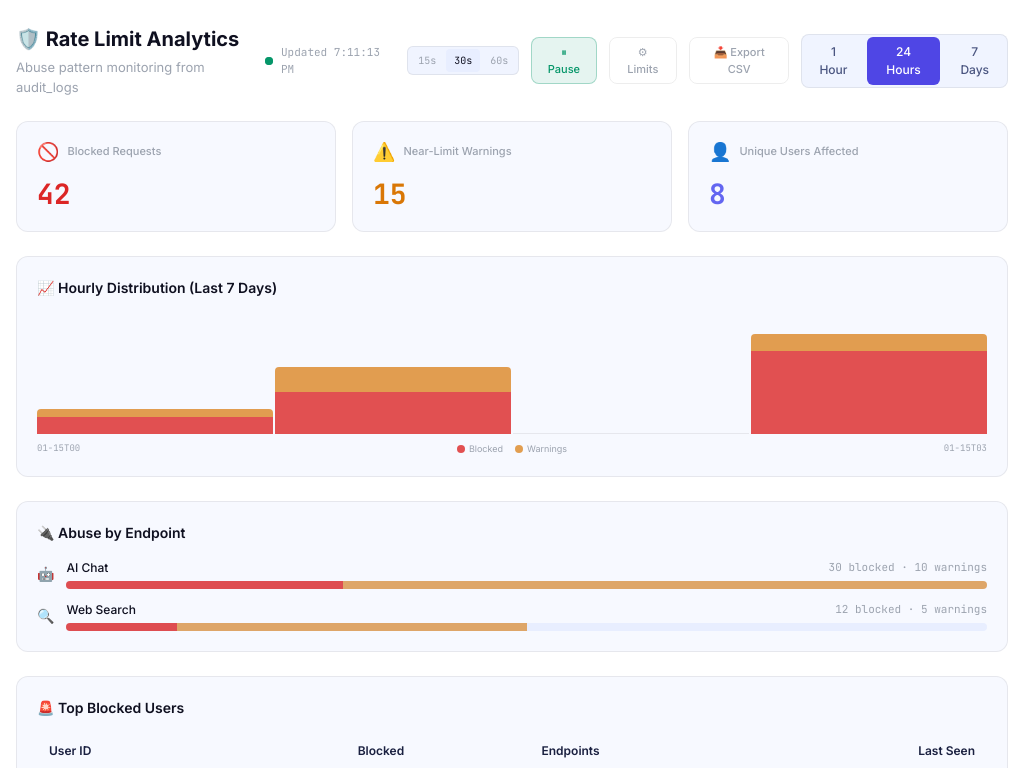
RateLimitDashboard › opens config panel on Limits button click
Expected: the text "42" is shown, [37,175,71,212]
Click the button "⚙ Limits" at (643, 60), box [609,37,677,84]
(page scrolled)
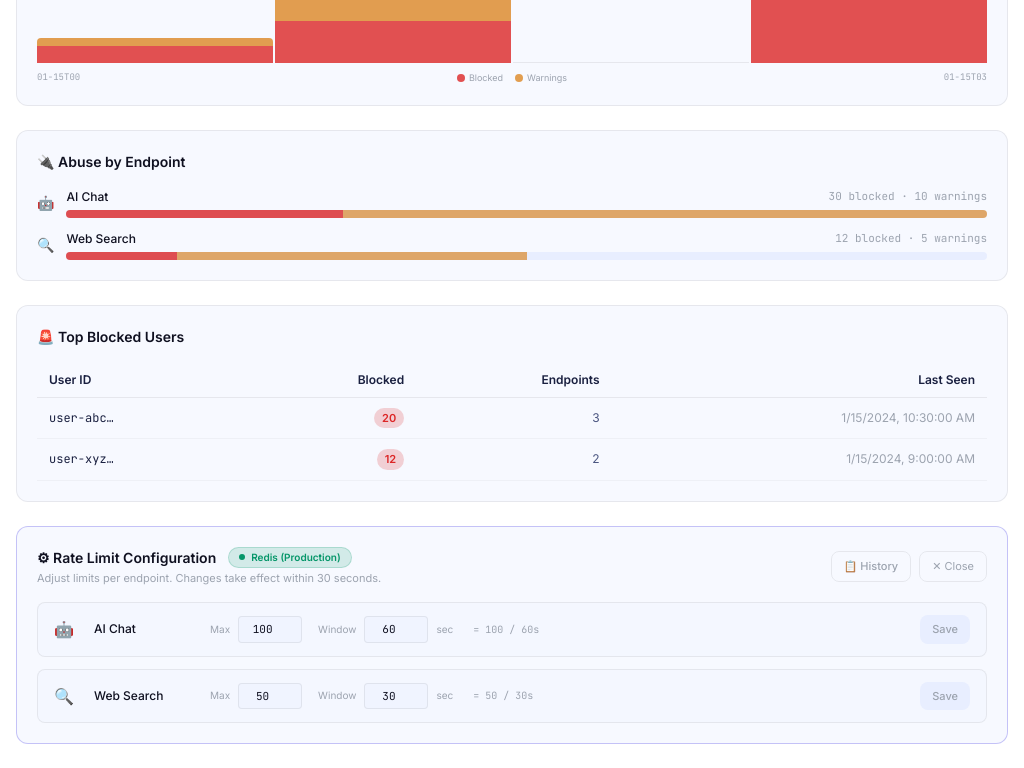
Expected: the heading "⚙ Rate Limit Configuration" is shown, [37,546,216,568]
